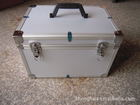shoutibox: (13, 0, 127, 82)
